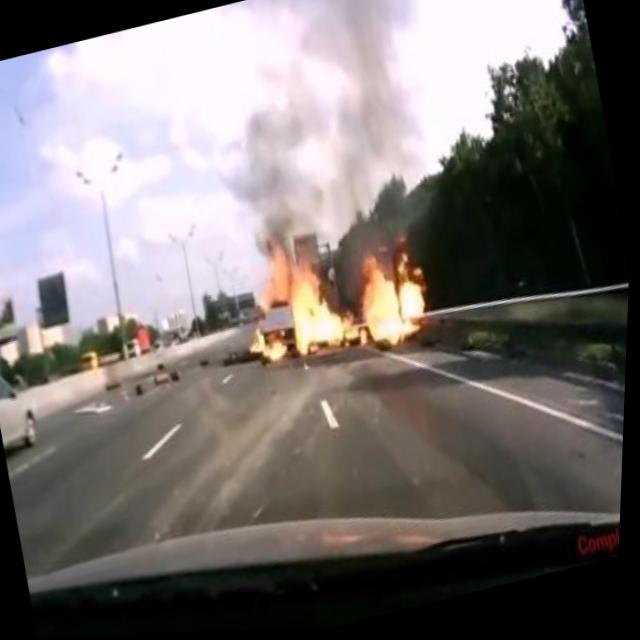fire: (273, 239, 368, 365), (349, 237, 444, 359), (244, 319, 293, 373)
